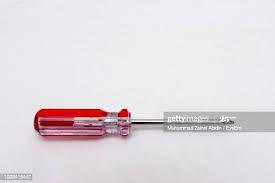screwdriver: (31, 106, 163, 141)
